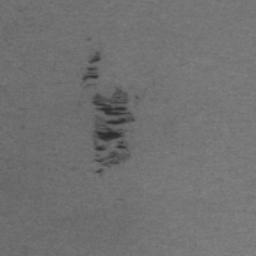Secondary rust skin: (91, 88, 135, 175), (82, 52, 101, 87)
